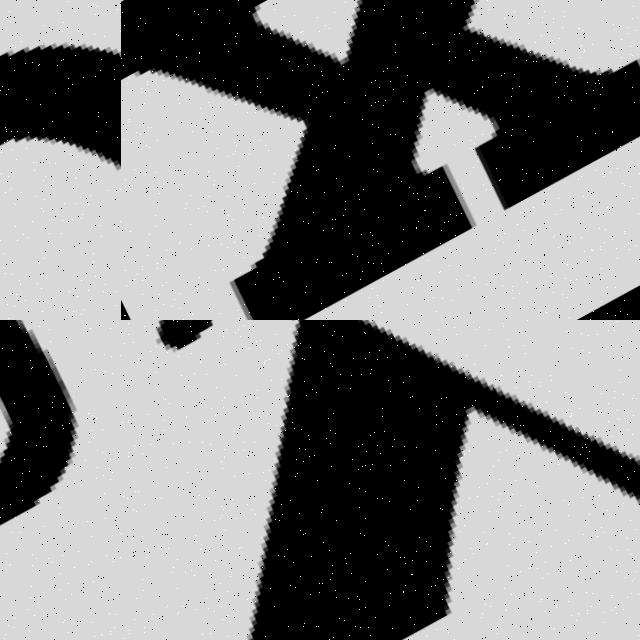H: (0, 320, 121, 640)
O: (0, 43, 121, 320)
X: (121, 0, 640, 320)
Y: (121, 320, 640, 640)
